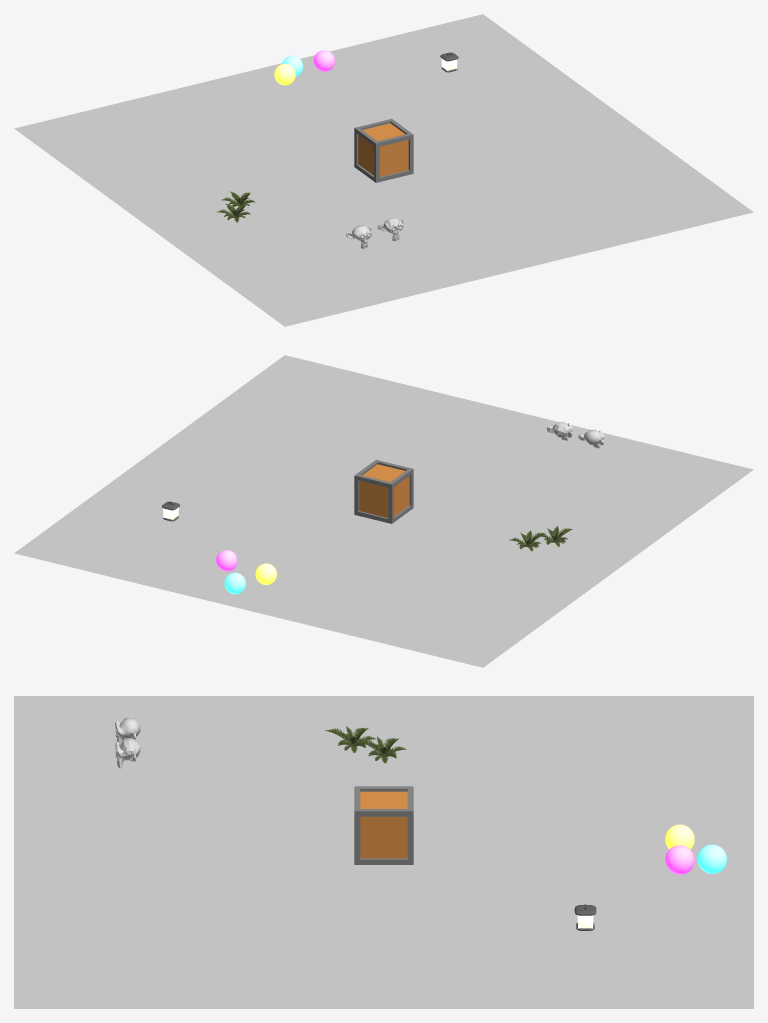
3 renders of one model, top to bottom at view 1: azimuth 30°, elevation 25°; view 2: azimuth 150°, elevation 25°; view 3: azimuth 270°, elevation 25°, orthographic. The views are drawn at different scales.
Visible parts, largest first — view 1: Plane, Inner, Outer; view 2: Plane, Inner, Outer; view 3: Plane, Inner, Outer, Sphere.001, Sphere.002, fern_v2, Sphere, fern_v2.001, Suzanne.001.
Part boxes in pixels (bbox=[...]): Plane: bbox=[14, 14, 753, 326]; Inner: bbox=[358, 123, 408, 176]; Outer: bbox=[354, 118, 413, 182]; Plane: bbox=[14, 355, 753, 667]; Inner: bbox=[359, 464, 409, 517]; Outer: bbox=[354, 459, 413, 523]; Plane: bbox=[14, 696, 753, 1008]; Inner: bbox=[360, 791, 407, 858]; Outer: bbox=[354, 786, 413, 864]; Sphere.001: bbox=[665, 845, 694, 874]; Sphere.002: bbox=[697, 844, 726, 873]; fern_v2: bbox=[356, 736, 406, 763]; Sphere: bbox=[665, 824, 694, 849]; fern_v2.001: bbox=[325, 726, 375, 752]; Suzanne.001: bbox=[115, 738, 140, 768].
Bounding box in the file's own units: 50 × 4.27 × 50.
Materials: 12 (2 with a texture image).
